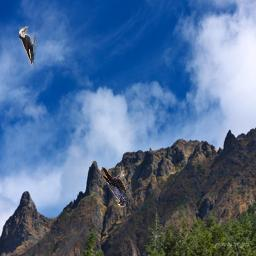Crow: (102, 167, 126, 207)
Woodpecker: (19, 26, 37, 66)
